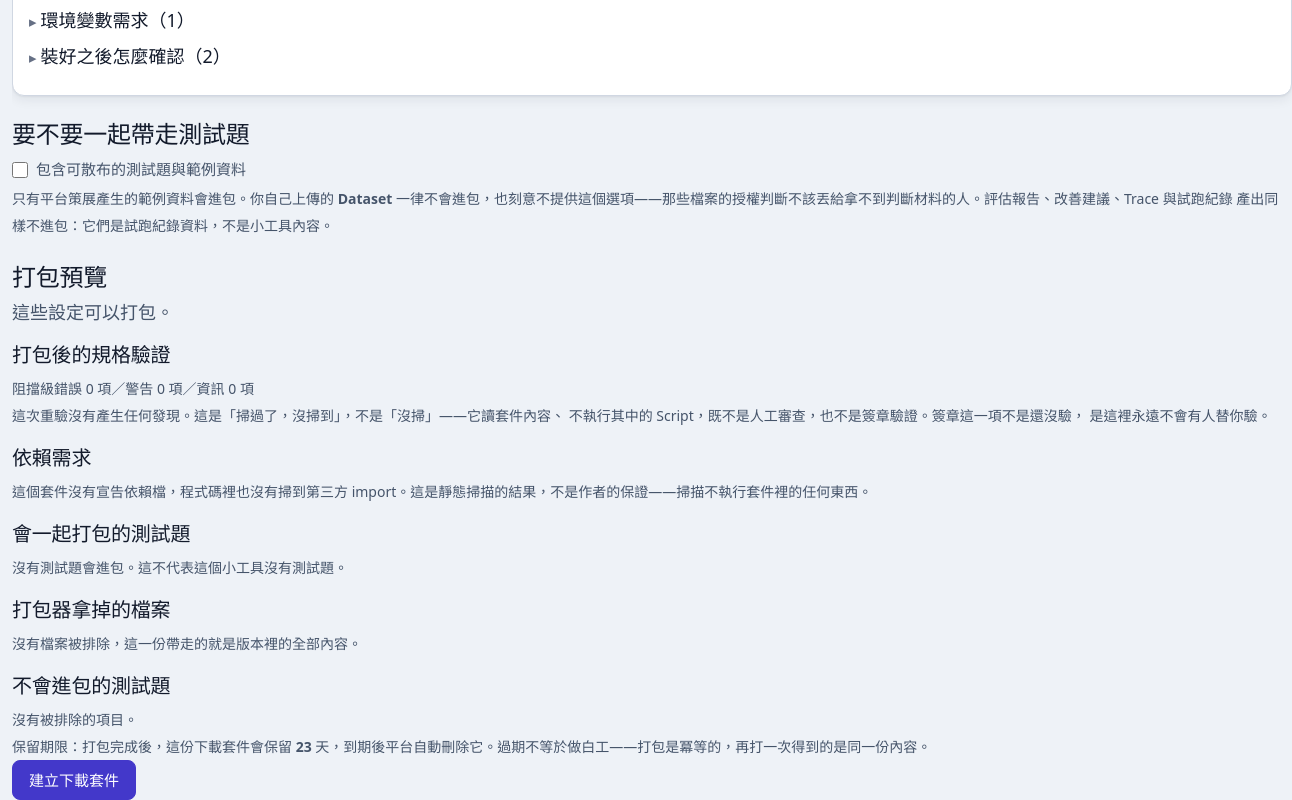
Test: 丙-153 an invited account sees no invite rule, and a 403 that still arrives is told in Chinese with the footer route
(page scrolled)
Click the button "建立下載套件" at (74, 780), box [12,760,136,799]
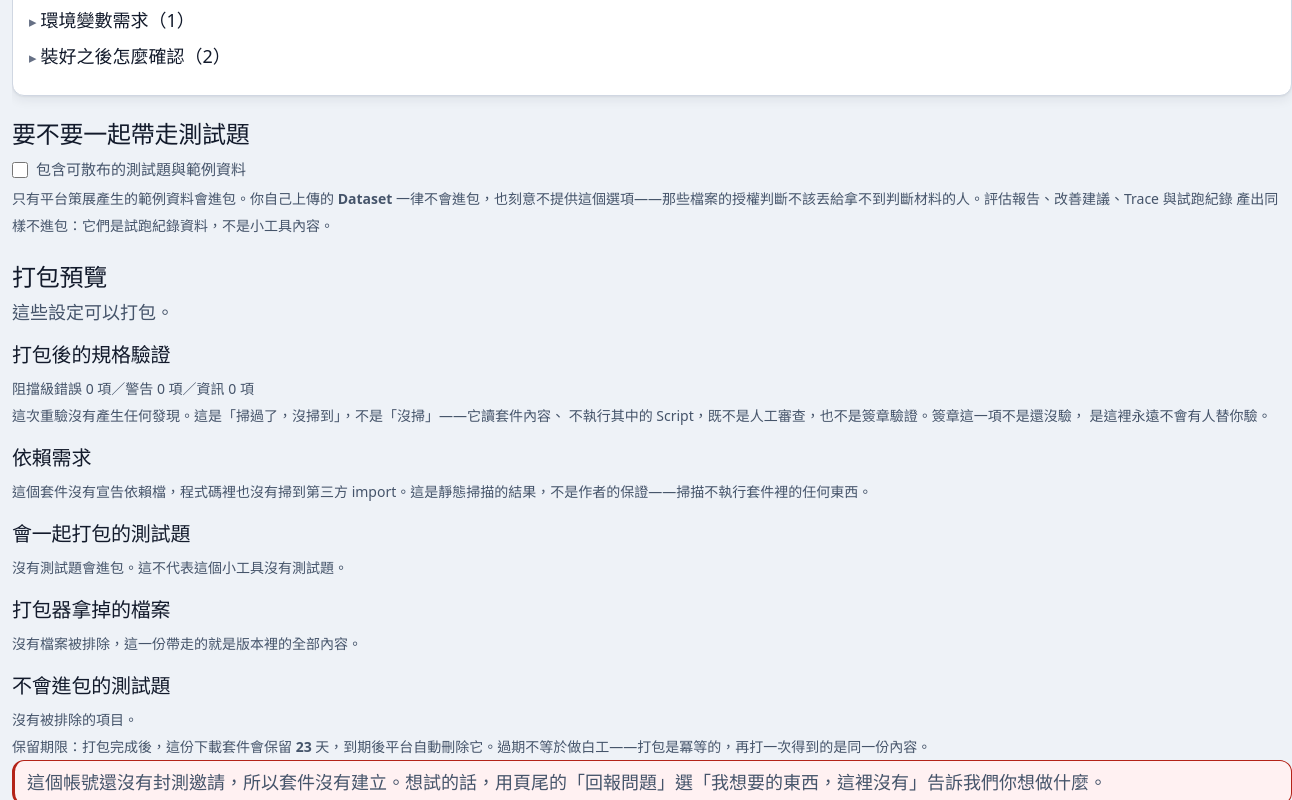
Check: the text "用頁尾的「回報問題」選「我想要的東西，這裡沒有」" is shown, box [27,770,1107,794]
